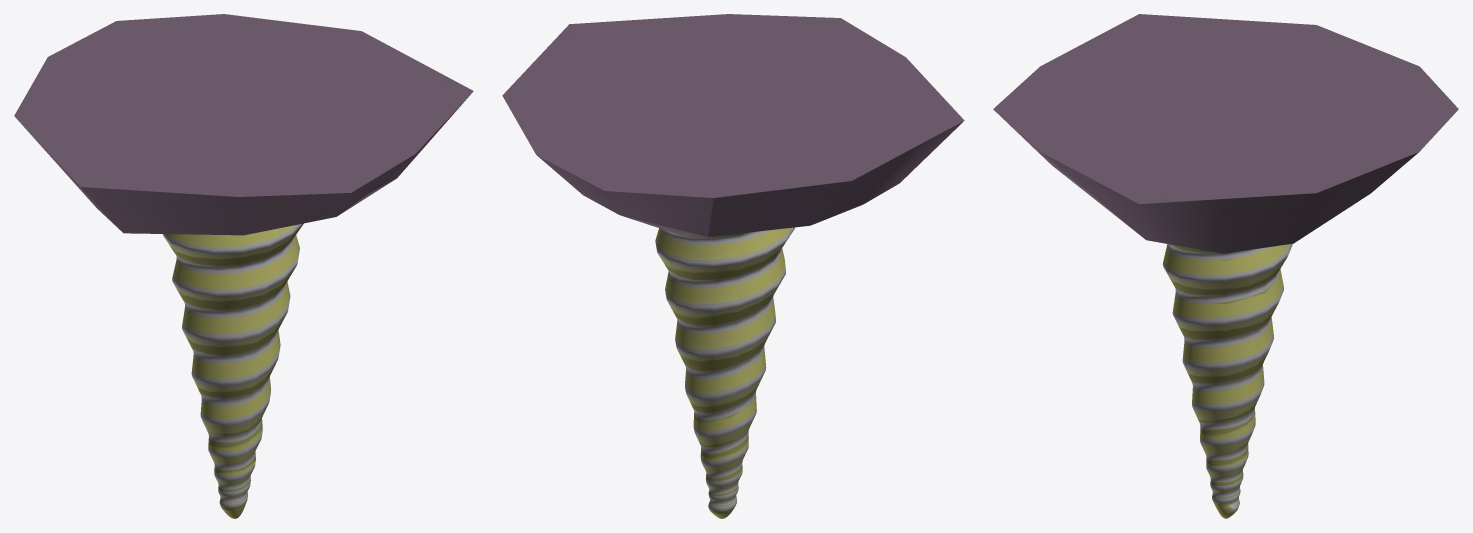
Rendered from m_environment2_stalagmite_1_je_4.fbx.
3 views of the same model, side by side, from view 1: azimuth 30°, elevation 25°; view 2: azimuth 150°, elevation 25°; view 3: azimuth 270°, elevation 25° (orthographic).
Visible parts, largest first — view 1: polySurface298; view 2: polySurface298; view 3: polySurface298.
Boxes of the visible parts, x1,y1,x2,y2 form: polySurface298: (14, 14, 473, 518); polySurface298: (502, 14, 964, 518); polySurface298: (993, 14, 1458, 518).
Bounding box in the file's own units: 9.05 × 9.08 × 9.37.
